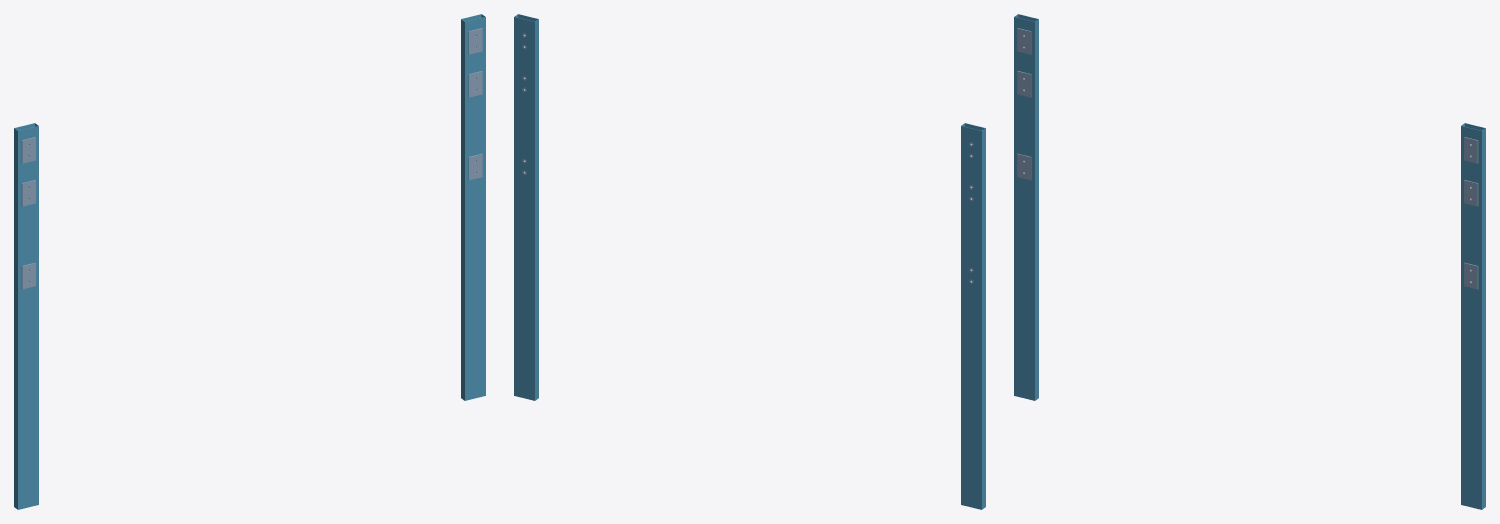
Rendered from baaabs-panel-mounting-v4-transport.glb.
The picture shows the model from 3 angles, left to right: view 1: azimuth 30°, elevation 25°; view 2: azimuth 150°, elevation 25°; view 3: azimuth 330°, elevation 25°; orthographic projection.
Parts seen in each view (by area): view 1: D driver upright, C driver upright; view 2: C driver upright, D driver upright; view 3: C driver upright, D driver upright.
Part boxes in pixels (left/top/right/bottom): D driver upright: left=461, top=14, right=485, bottom=400; C driver upright: left=14, top=123, right=38, bottom=509; C driver upright: left=961, top=123, right=985, bottom=509; D driver upright: left=514, top=14, right=538, bottom=400; C driver upright: left=1014, top=14, right=1038, bottom=400; D driver upright: left=1461, top=123, right=1485, bottom=509.
Size of the model in its own units: 3.39 by 2.62 by 0.0568.
